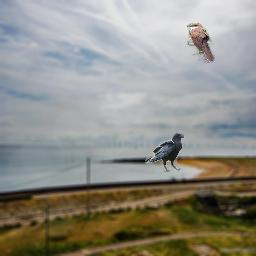Crow: (145, 133, 185, 172)
Cuckoo: (187, 23, 215, 63)
